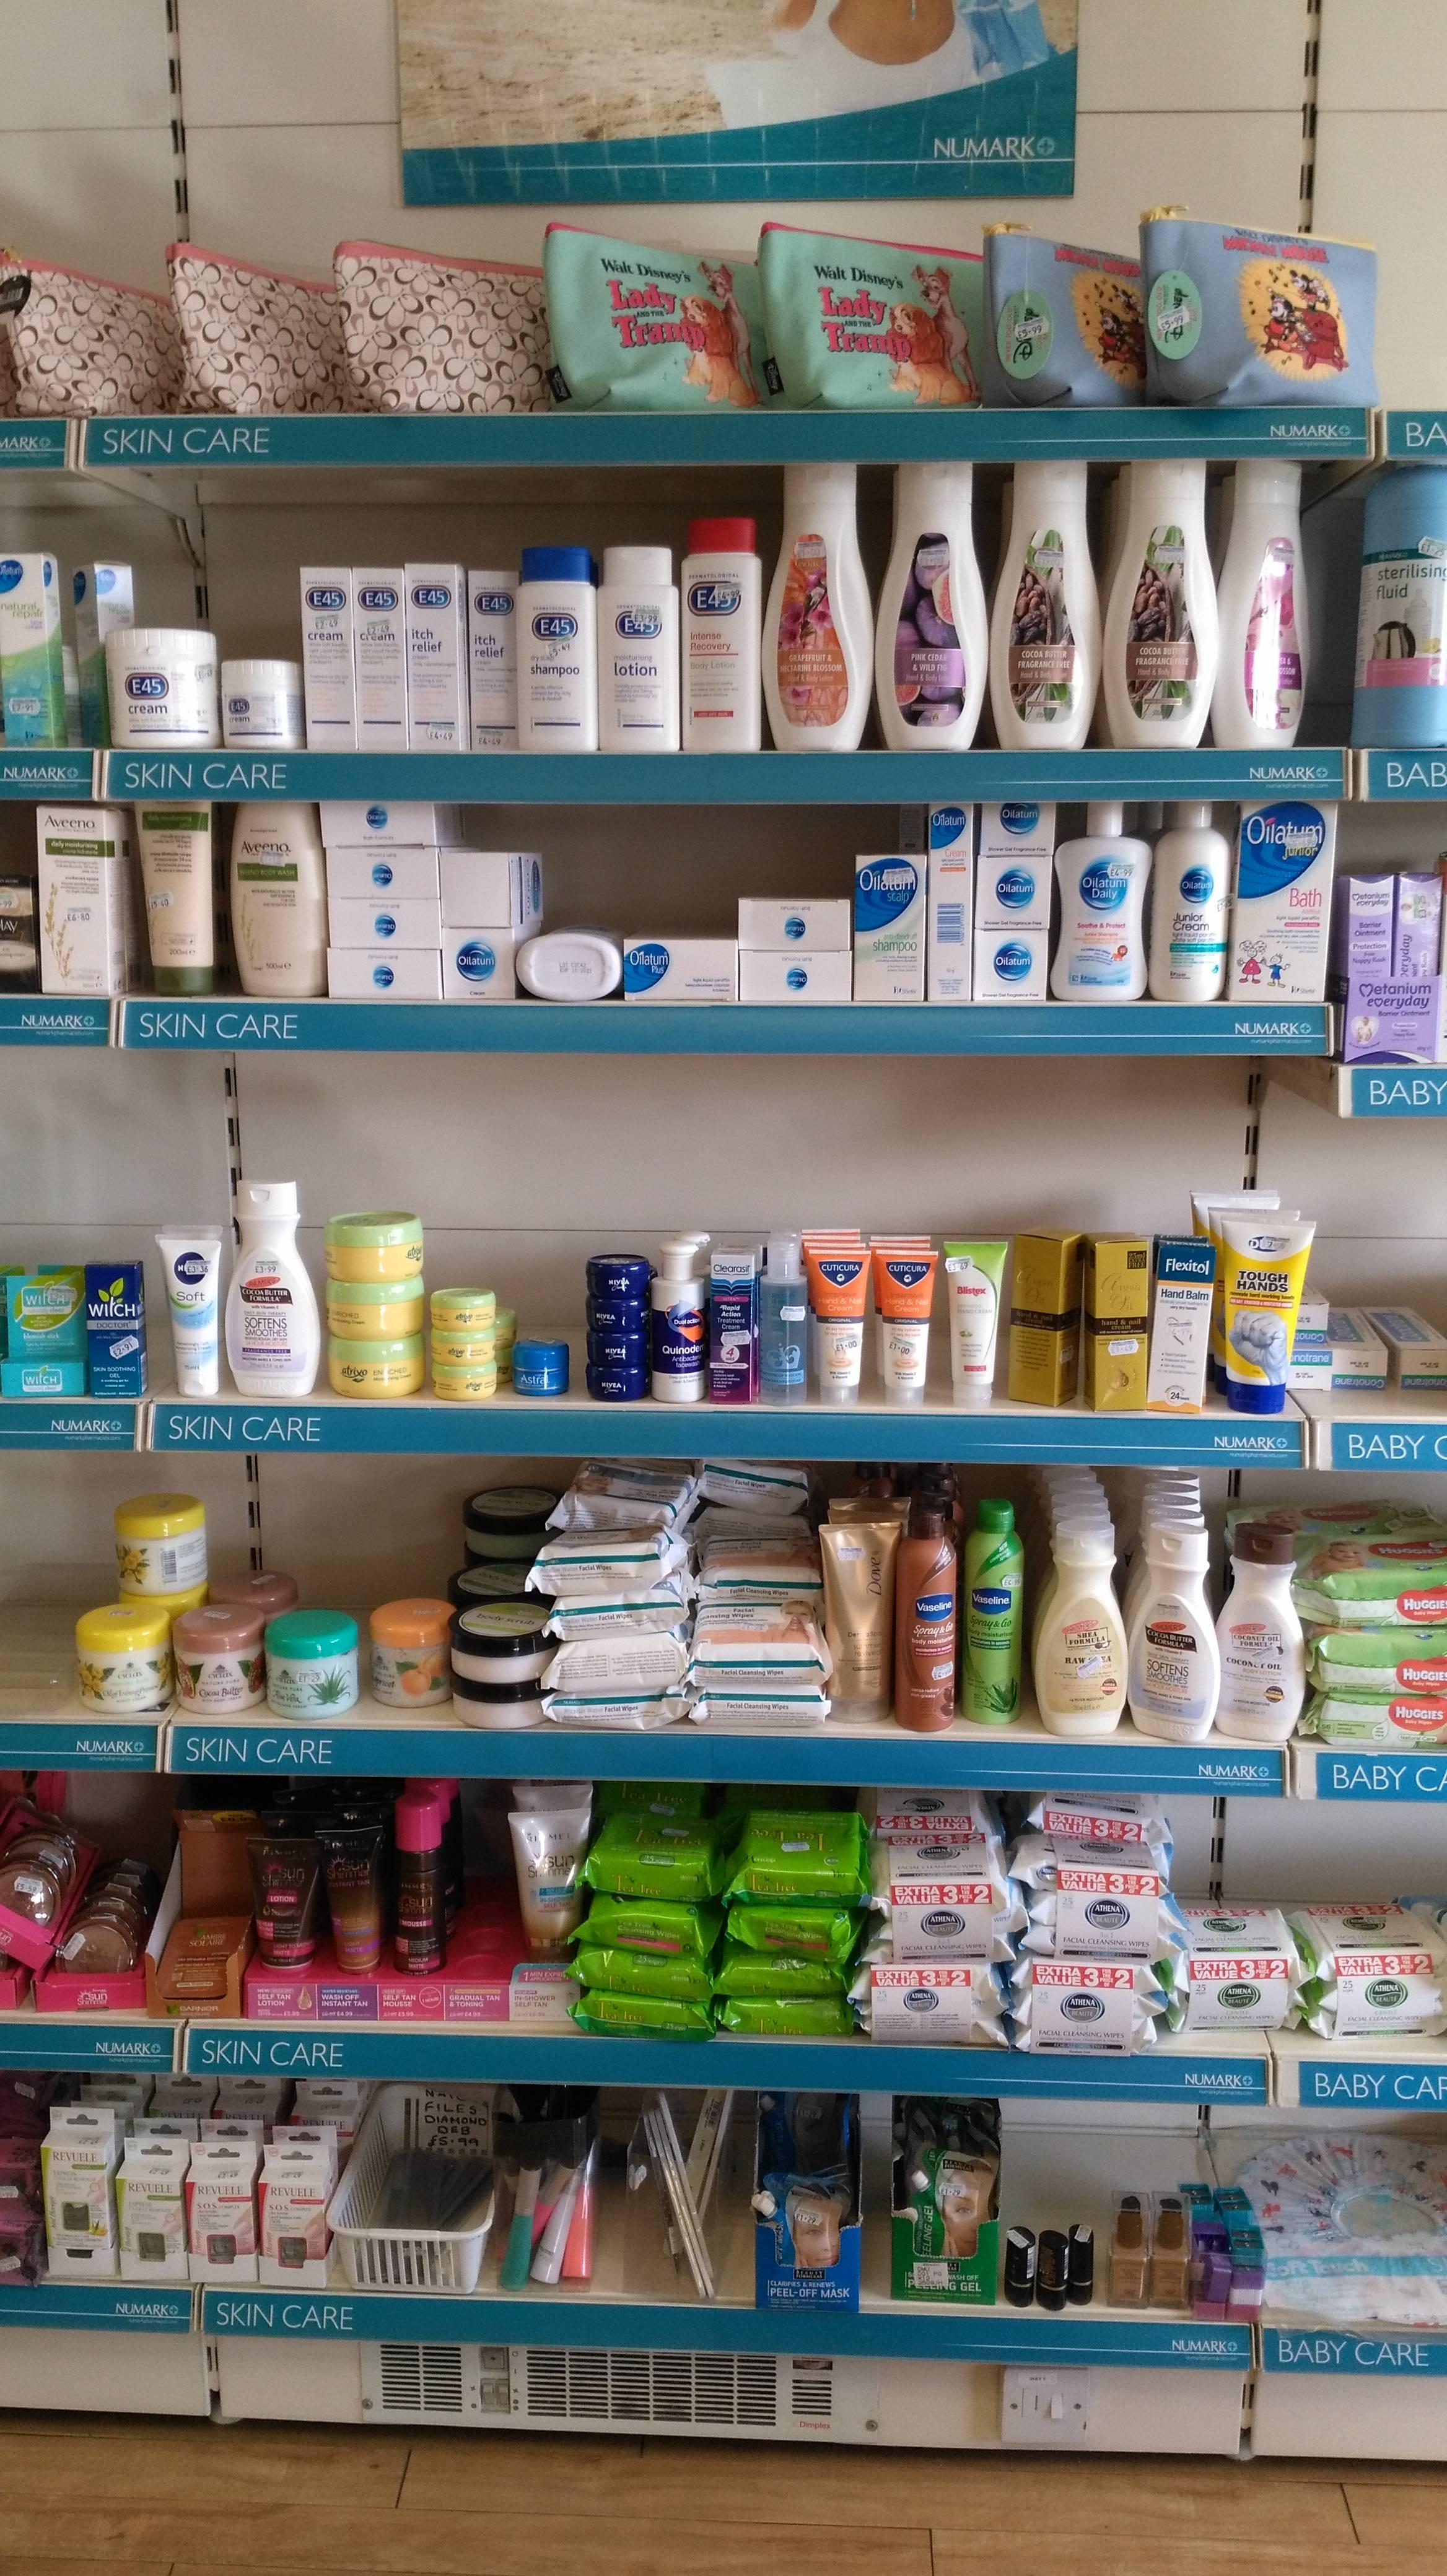misalignment: (1222, 456, 1311, 745), (0, 1810, 87, 1964), (1005, 1215, 1076, 1401), (65, 564, 127, 741), (522, 909, 617, 1003), (446, 839, 524, 932)
